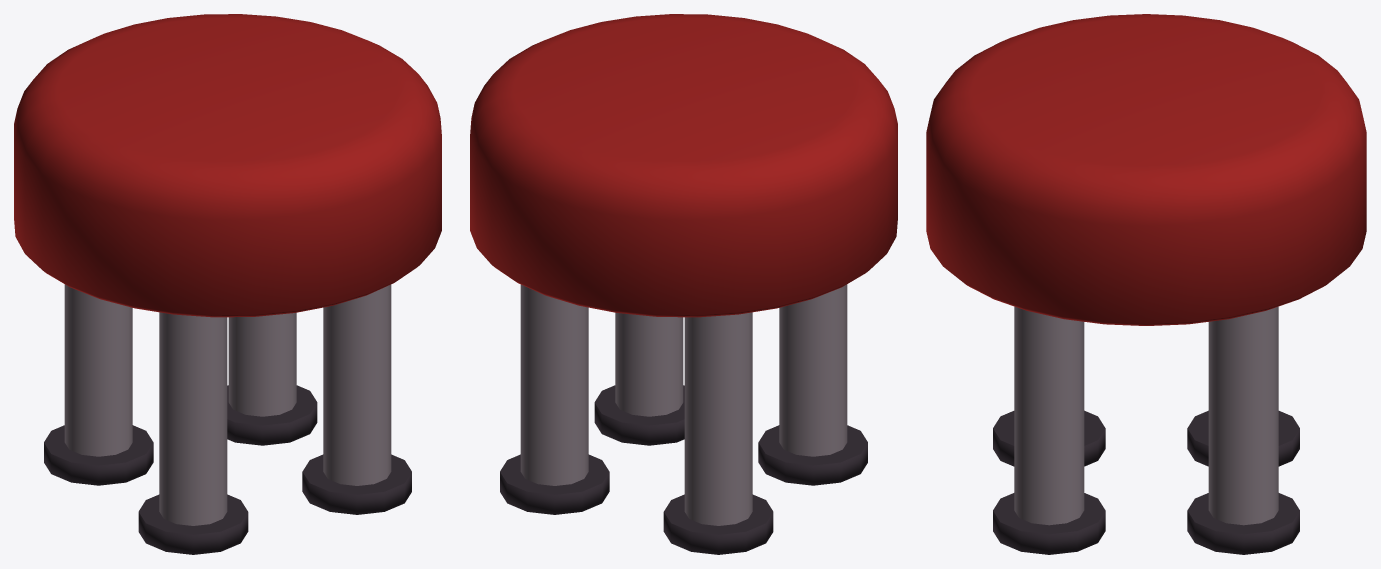
File: GB_048_stool.glb
The picture shows the model from 3 angles, left to right: view 1: azimuth 30°, elevation 25°; view 2: azimuth 150°, elevation 25°; view 3: azimuth 270°, elevation 25°; orthographic projection. The views are drawn at different scales.
Visible parts, largest first — view 1: Stool_seat, Stool_legs; view 2: Stool_seat, Stool_legs; view 3: Stool_seat, Stool_legs.
Part boxes in pixels (x1=…): Stool_seat: x1=14, y1=14, x2=441, y2=317; Stool_legs: x1=44, y1=284, x2=411, y2=554; Stool_seat: x1=470, y1=14, x2=897, y2=317; Stool_legs: x1=500, y1=284, x2=867, y2=554; Stool_seat: x1=926, y1=14, x2=1366, y2=325; Stool_legs: x1=993, y1=306, x2=1299, y2=554.
Bounding box in the file's own units: 0.6859 × 0.6835 × 0.6859.
